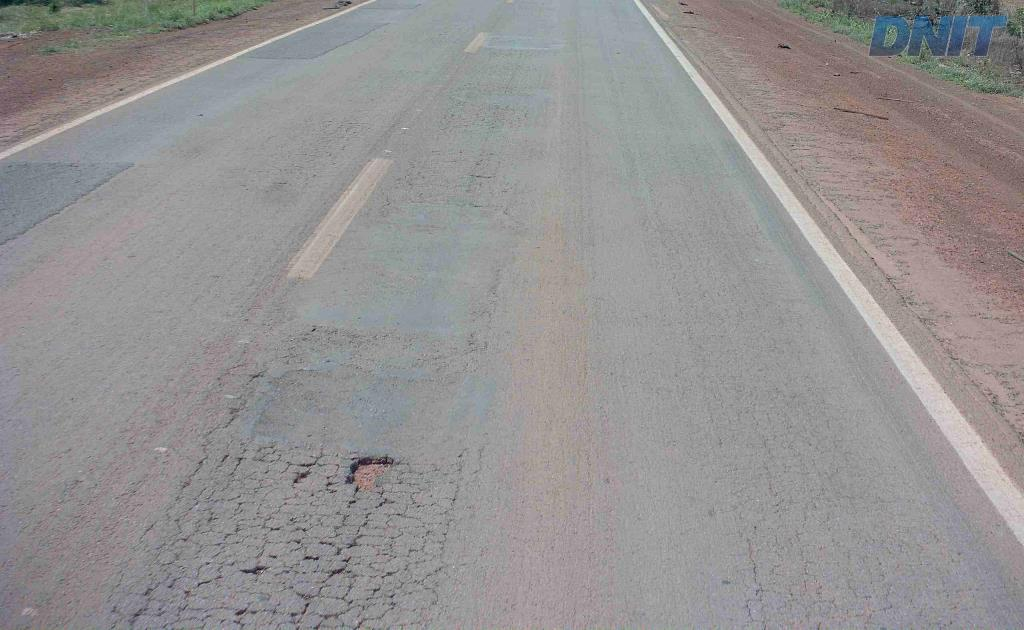crack: (286, 555, 358, 625)
pothole: (342, 446, 398, 490)
